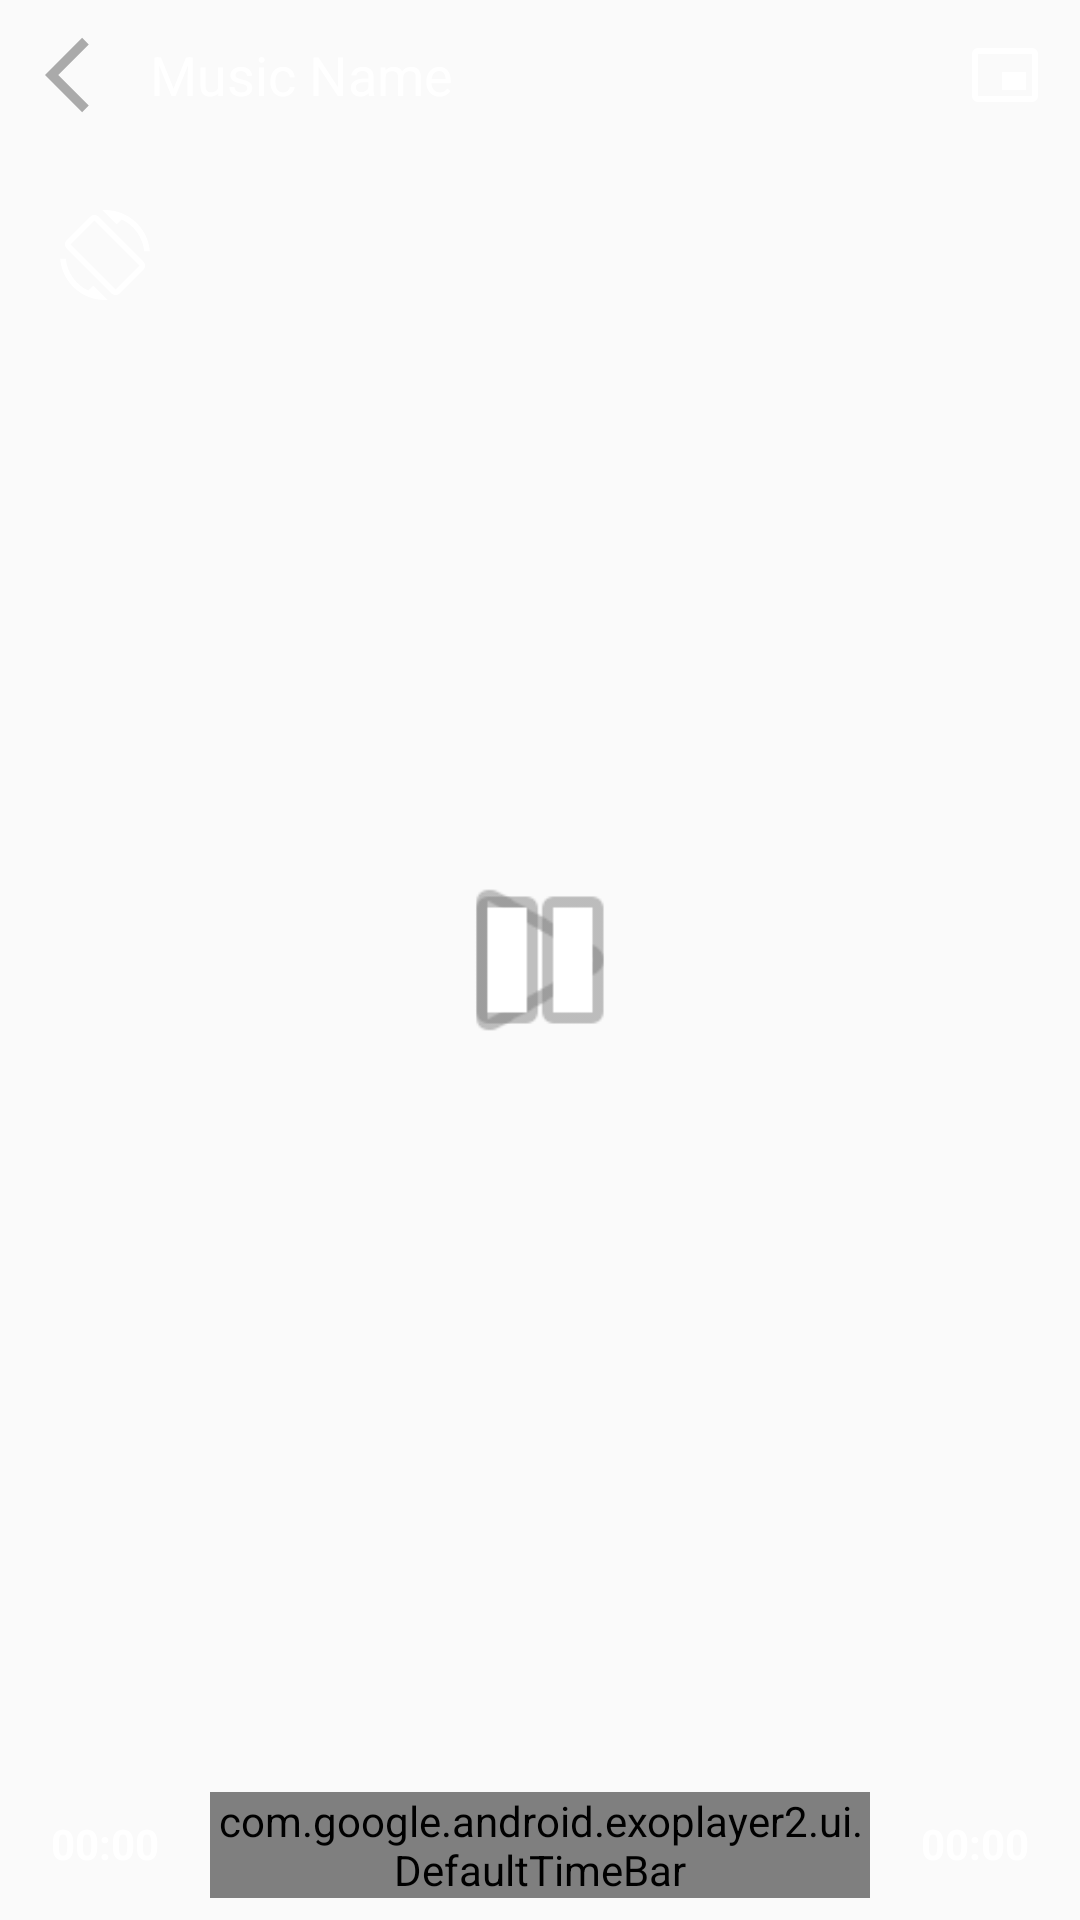

Named icons in this screenshot (1080×1920) and their centers, (x=x, y=y):
arrow back: (x=67, y=75)
